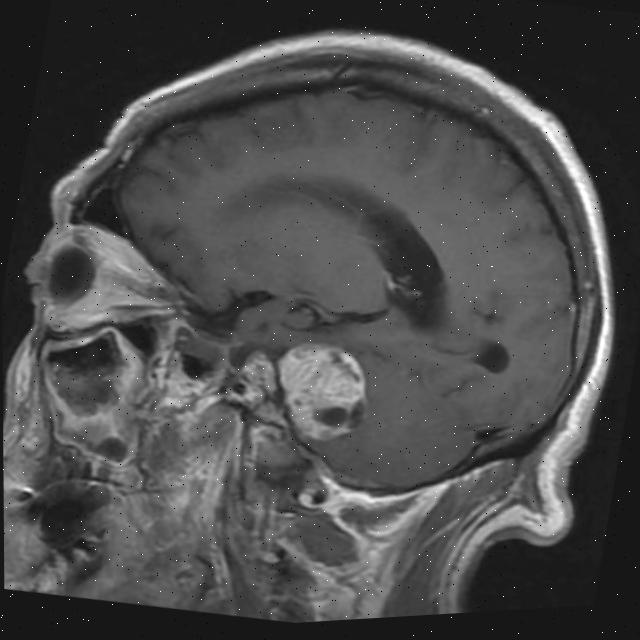Meningioma: (264, 331, 377, 453)
